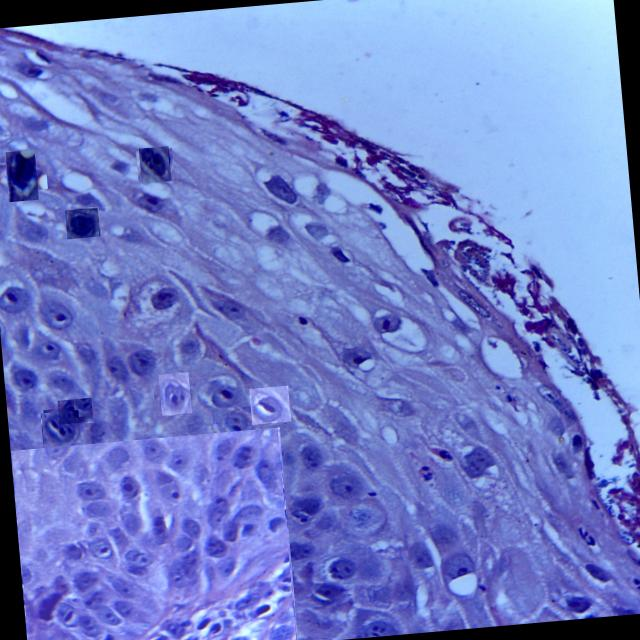Mitotic Figures: (250, 387, 289, 422), (7, 150, 34, 200)
Multiple Nucleol: (215, 406, 255, 446), (159, 373, 189, 414), (40, 412, 80, 442), (139, 146, 171, 181), (65, 208, 98, 236), (58, 399, 91, 422)
Nuclear Hyperchromatism: (24, 433, 298, 640)
